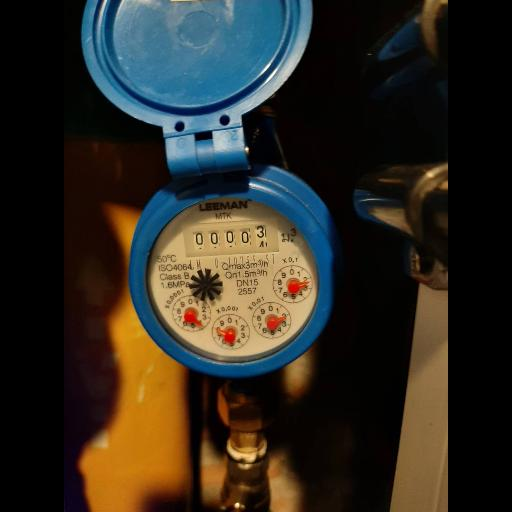0: (208, 230, 220, 250), (224, 228, 236, 248), (193, 232, 205, 251), (239, 229, 251, 248)
3: (255, 224, 268, 248)
border_water_meter_number: (183, 219, 279, 258)
